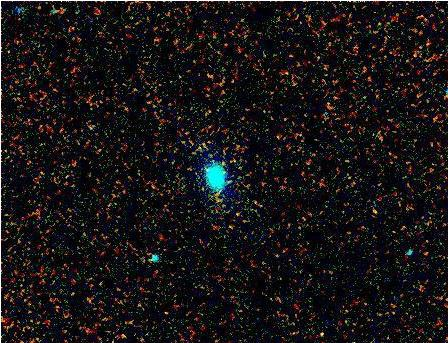star: (307, 316, 337, 343)
